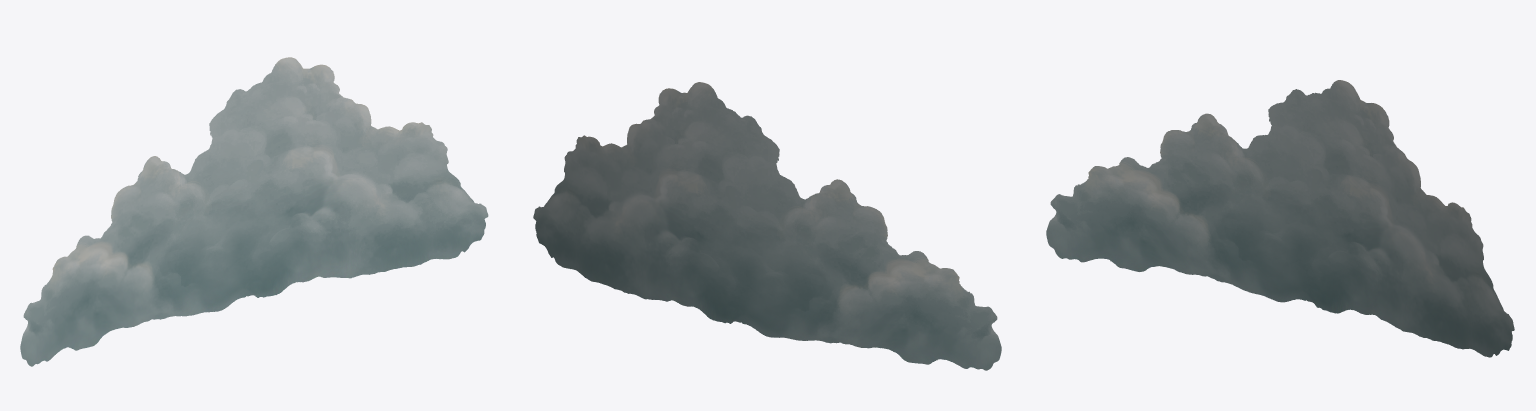
The model's file is clouds_01.fbx.
3 views of the same model, side by side, from view 1: azimuth 30°, elevation 25°; view 2: azimuth 150°, elevation 25°; view 3: azimuth 330°, elevation 25° (orthographic).
Parts seen in each view (by area): view 1: clouds_01; view 2: clouds_01; view 3: clouds_01.
Part boxes in pixels (x1,y1,x2,y2): clouds_01: (20, 57, 488, 366); clouds_01: (533, 82, 1001, 370); clouds_01: (1046, 80, 1514, 357).
Size of the model in its own units: 1072 by 561 by 69.84.
